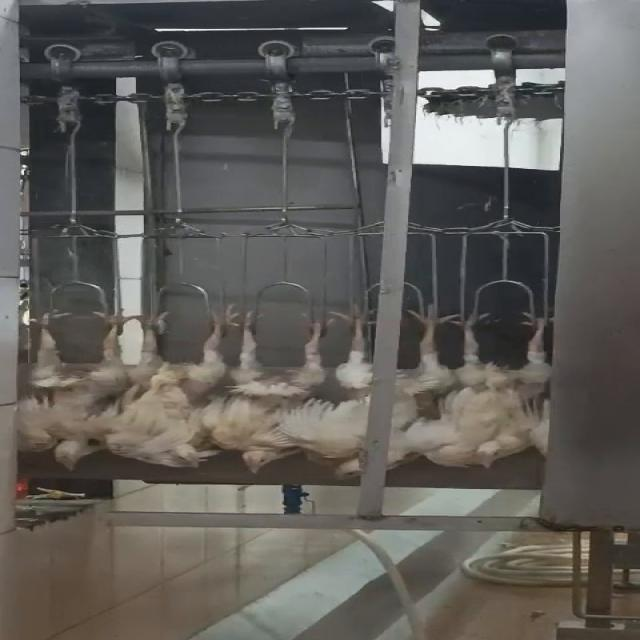chicken: (2, 297, 157, 475), (316, 306, 464, 485), (107, 304, 250, 468), (202, 308, 338, 477), (432, 307, 557, 472)
